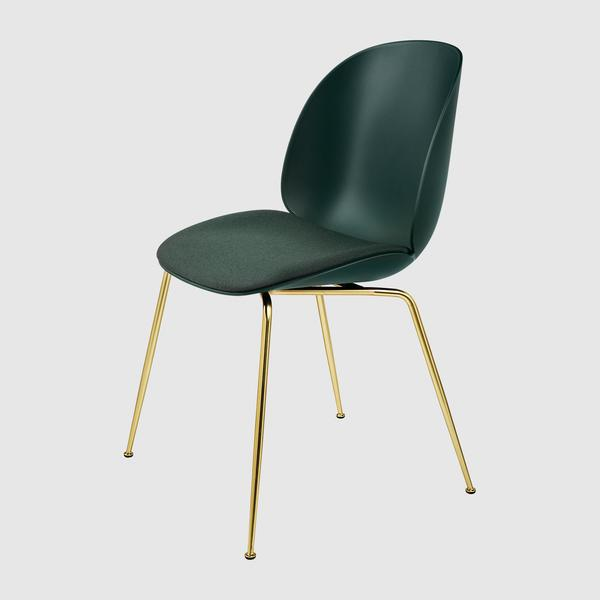chair: (87, 32, 510, 574)
